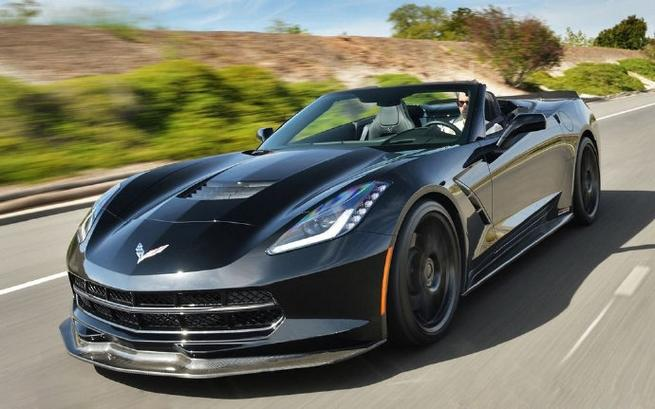汽车: (51, 76, 615, 386)
